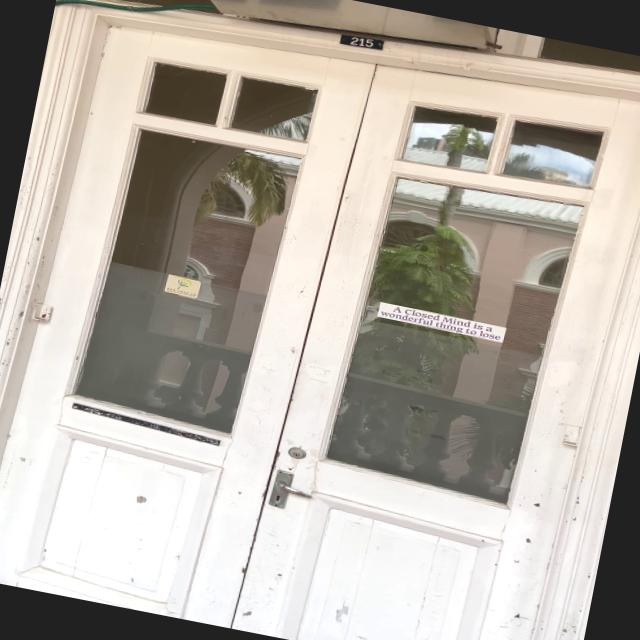room215: (336, 31, 386, 52)
